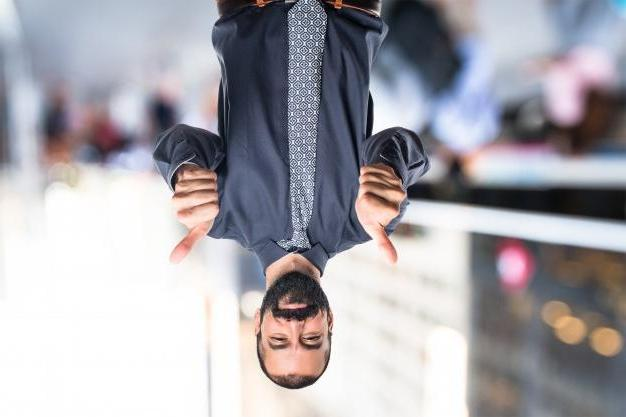thumbsdown: (168, 169, 219, 265), (359, 163, 406, 266)
